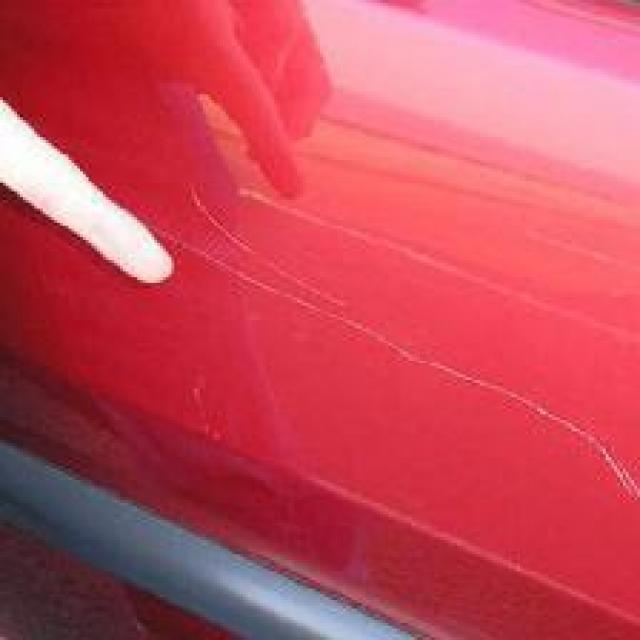damaged: (140, 177, 637, 512)
